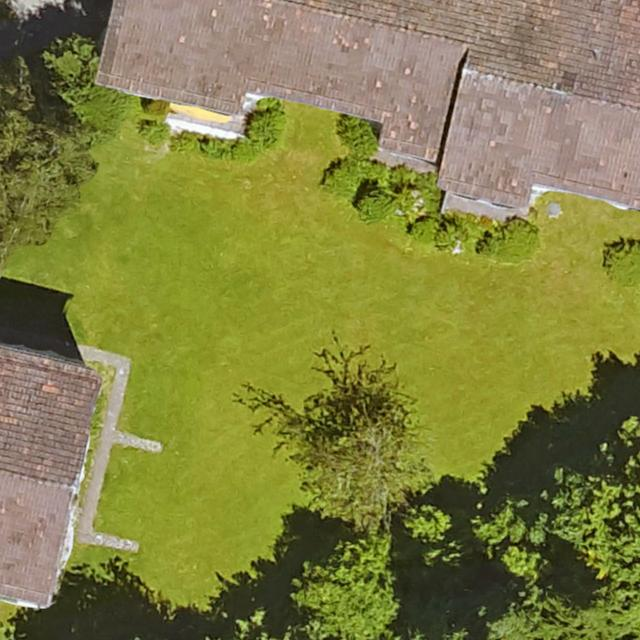tree: (488, 423, 640, 640), (302, 366, 420, 518), (295, 530, 401, 640), (0, 110, 59, 241), (44, 33, 98, 93)
